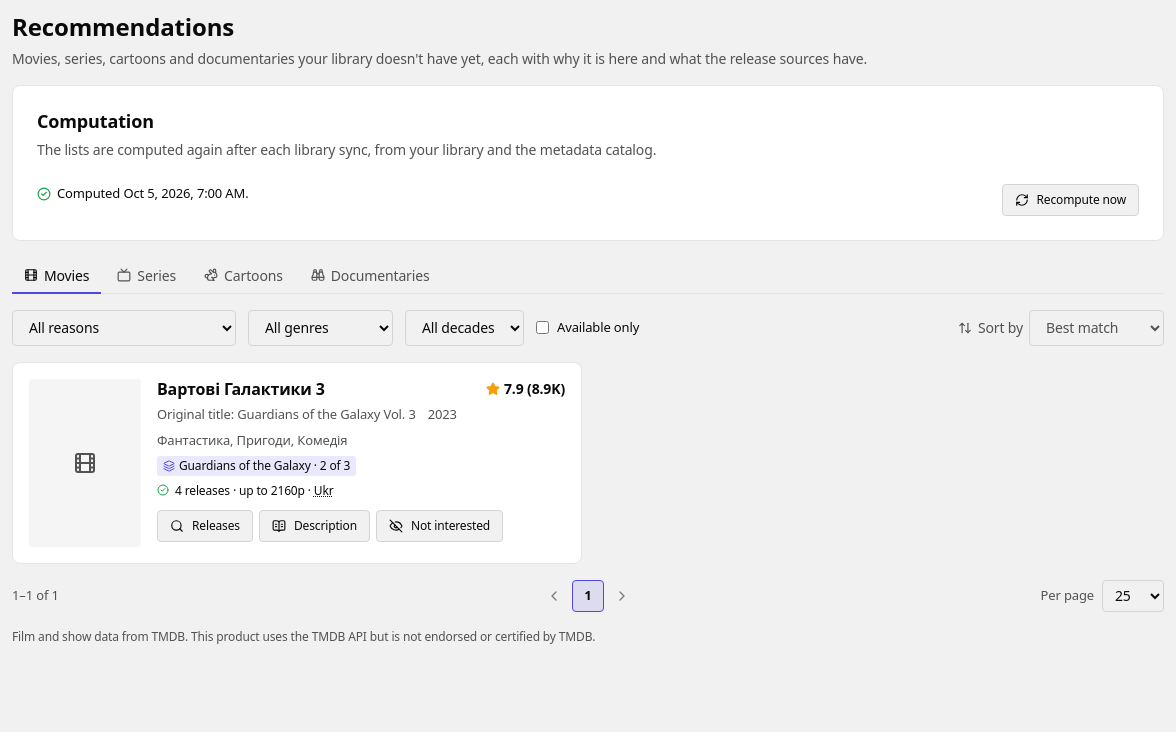
Test: RecommendationsPage run panel › says why Recompute now was refused under the status line
Expected: the text "Computed Oct 5, 2026, 7:00 AM." is shown, [57,184,248,203]
Click the button "Recompute now".
click(1070, 200)  # box [1002,184,1139,216]
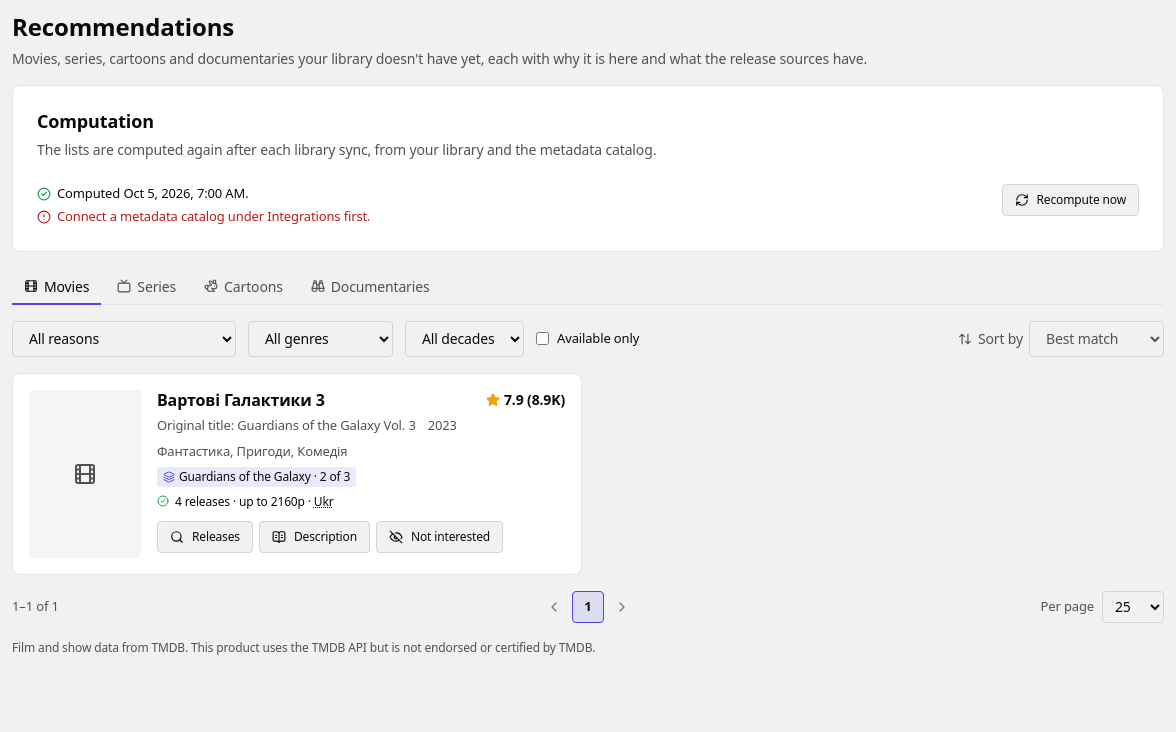
Expected: the message "Connect a metadata catalog under Integrations first." is shown, [37,207,370,226]
